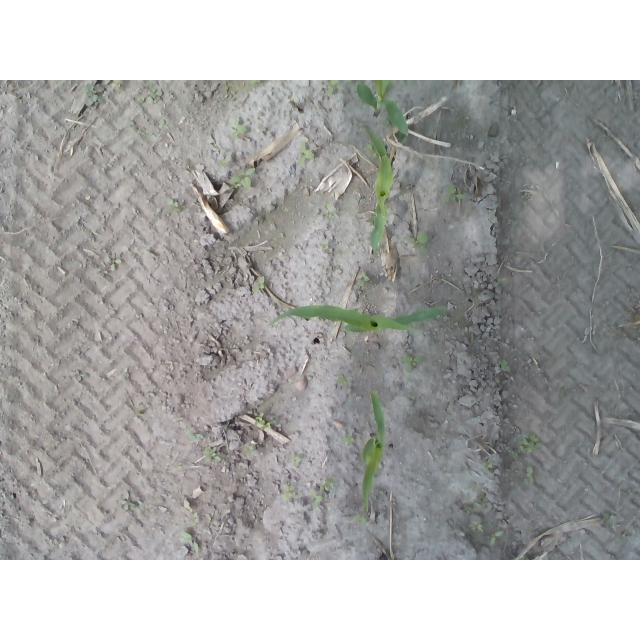Maize: (271, 301, 454, 336), (364, 125, 397, 251), (358, 390, 387, 515), (355, 80, 409, 137)
Weeds: (229, 166, 256, 190), (179, 530, 202, 558), (403, 231, 432, 251), (80, 84, 104, 106), (519, 431, 542, 453), (442, 182, 467, 202), (144, 80, 163, 104), (297, 143, 316, 167), (400, 354, 425, 370), (102, 255, 123, 274), (325, 80, 348, 96), (206, 446, 223, 463), (119, 500, 139, 513), (231, 124, 249, 138), (253, 274, 267, 292), (489, 530, 503, 547), (256, 415, 272, 429), (497, 359, 512, 373), (187, 430, 209, 439), (356, 273, 369, 288), (468, 520, 484, 532), (282, 488, 296, 501), (165, 196, 180, 208), (525, 466, 536, 482), (310, 492, 324, 504), (321, 480, 336, 491), (242, 444, 255, 456), (342, 434, 354, 446), (338, 375, 351, 386), (290, 455, 302, 466), (247, 81, 261, 88), (485, 462, 495, 470)
